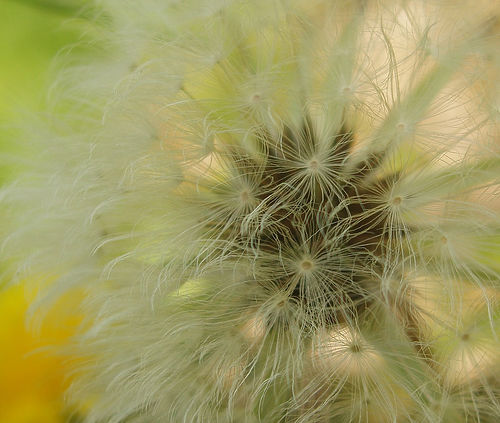dandelion: (25, 1, 499, 420)
